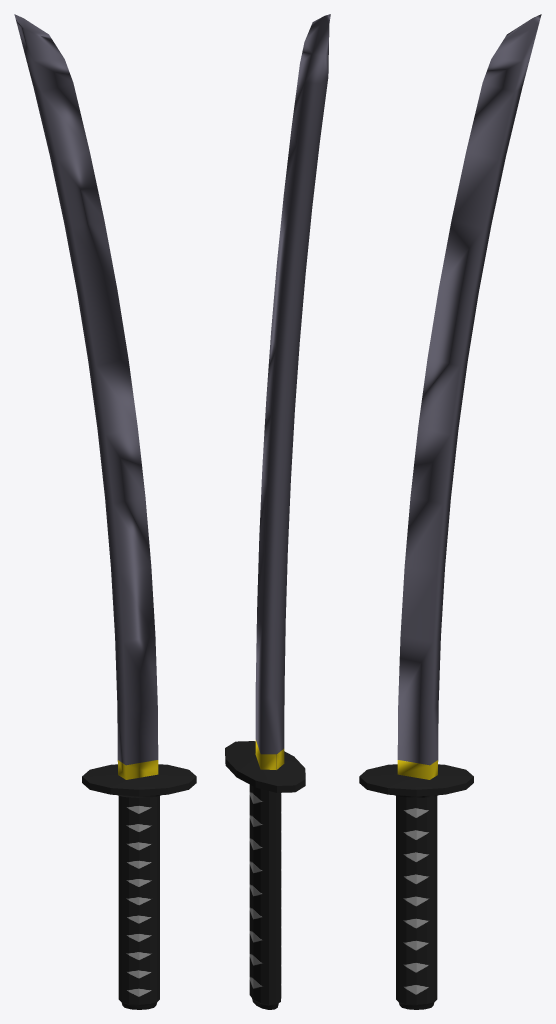
File: iron_katana.glb
3 views of the same model, side by side, from view 1: azimuth 90°, elevation 25°; view 2: azimuth 210°, elevation 25°; view 3: azimuth 270°, elevation 25° (orthographic). The views are drawn at different scales.
Visible parts, largest first — view 1: Iron Katana; view 2: Iron Katana; view 3: Iron Katana.
Boxes of the visible parts, x1,y1,x2,y2 form: Iron Katana: [14, 14, 196, 1009]; Iron Katana: [225, 14, 330, 1009]; Iron Katana: [359, 14, 541, 1009].
Size of the model in its own units: 0.0388 by 0.669 by 0.1115.
Materials: 2 (1 with a texture image).
